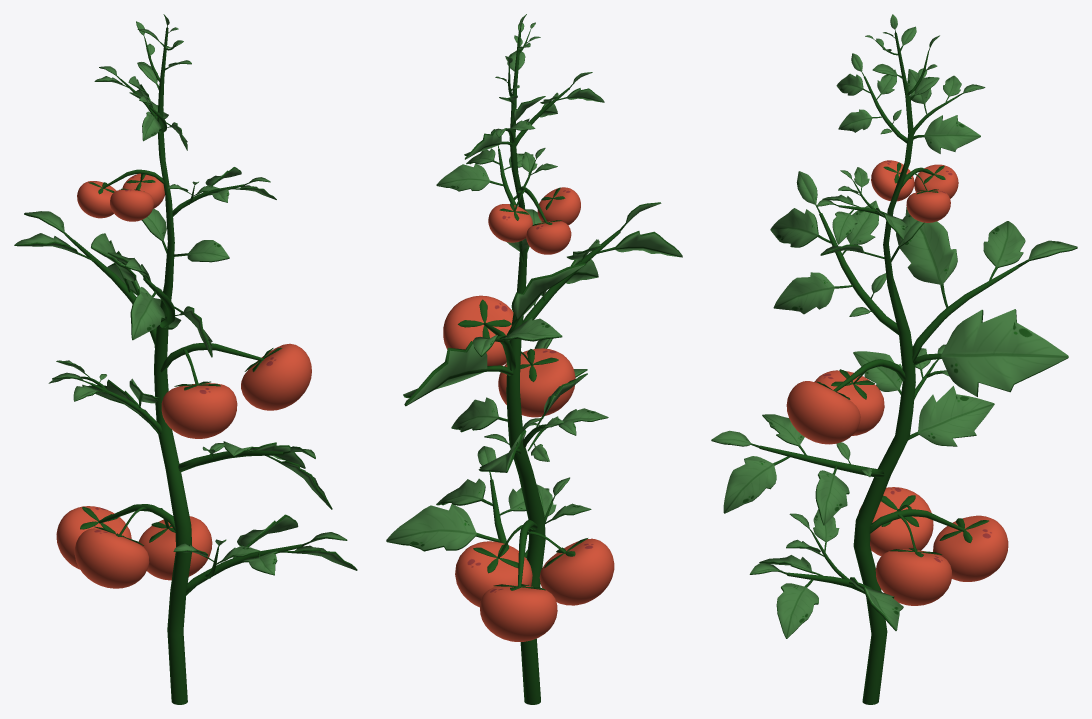
File: tomatoGrowingStageFinal.fbx
The picture shows the model from 3 angles, left to right: view 1: azimuth 30°, elevation 25°; view 2: azimuth 150°, elevation 25°; view 3: azimuth 270°, elevation 25°; orthographic projection. The views are drawn at different scales.
Parts seen in each view (by area): view 1: stem, Tomato.007, Tomato.006, Tomato.002, Tomato.001, Tomato, leaf.076, Tomato.005, Tomato.003, stem.006, leaf.004, stem.007 (+8 smaller); view 2: stem, Tomato.002, Tomato, leaf.018, Tomato.007, Tomato.001, Tomato.006, leaf.005, leaf.008, Tomato.004, Tomato.003, Tomato.005 (+9 smaller); view 3: stem, leaf.005, Tomato.006, Tomato.001, Tomato, leaf.012, leaf.008, Tomato.002, leaf.048, leaf.077, Tomato.007, leaf.017 (+17 smaller).
Boxes of the visible parts, box(x1,y1,x2,y2) form: stem: box(154, 28, 191, 704); Tomato.007: box(161, 383, 237, 438); Tomato.006: box(241, 343, 311, 410); Tomato.002: box(74, 528, 149, 588); Tomato.001: box(138, 516, 212, 580); Tomato: box(56, 506, 131, 569); leaf.076: box(130, 287, 165, 340); Tomato.005: box(110, 189, 153, 221); Tomato.003: box(77, 181, 116, 218); stem.006: box(185, 544, 302, 595); leaf.004: box(173, 240, 229, 262); stem.007: box(178, 450, 284, 471); stem: box(506, 30, 545, 704); Tomato.002: box(539, 538, 614, 605); Tomato: box(480, 585, 557, 641); leaf.018: box(386, 504, 500, 551); Tomato.007: box(498, 348, 575, 417); Tomato.001: box(455, 541, 532, 607); Tomato.006: box(443, 295, 513, 365); leaf.005: box(403, 341, 513, 406); leaf.008: box(507, 263, 585, 335); Tomato.004: box(488, 204, 532, 242); Tomato.003: box(526, 221, 571, 254); Tomato.005: box(537, 187, 580, 225); stem: box(853, 32, 915, 704); leaf.005: box(913, 309, 1068, 396); Tomato.006: box(786, 381, 860, 444); Tomato.001: box(875, 549, 951, 605); Tomato: box(933, 515, 1008, 581); leaf.012: box(908, 386, 994, 446); leaf.008: box(900, 207, 957, 308); Tomato.002: box(858, 487, 933, 556); leaf.048: box(723, 456, 789, 513); leaf.077: box(773, 272, 852, 314); Tomato.007: box(814, 370, 884, 435); leaf.017: box(776, 579, 818, 638).
Bounding box in the file's own units: 36.43 × 102 × 49.32.
